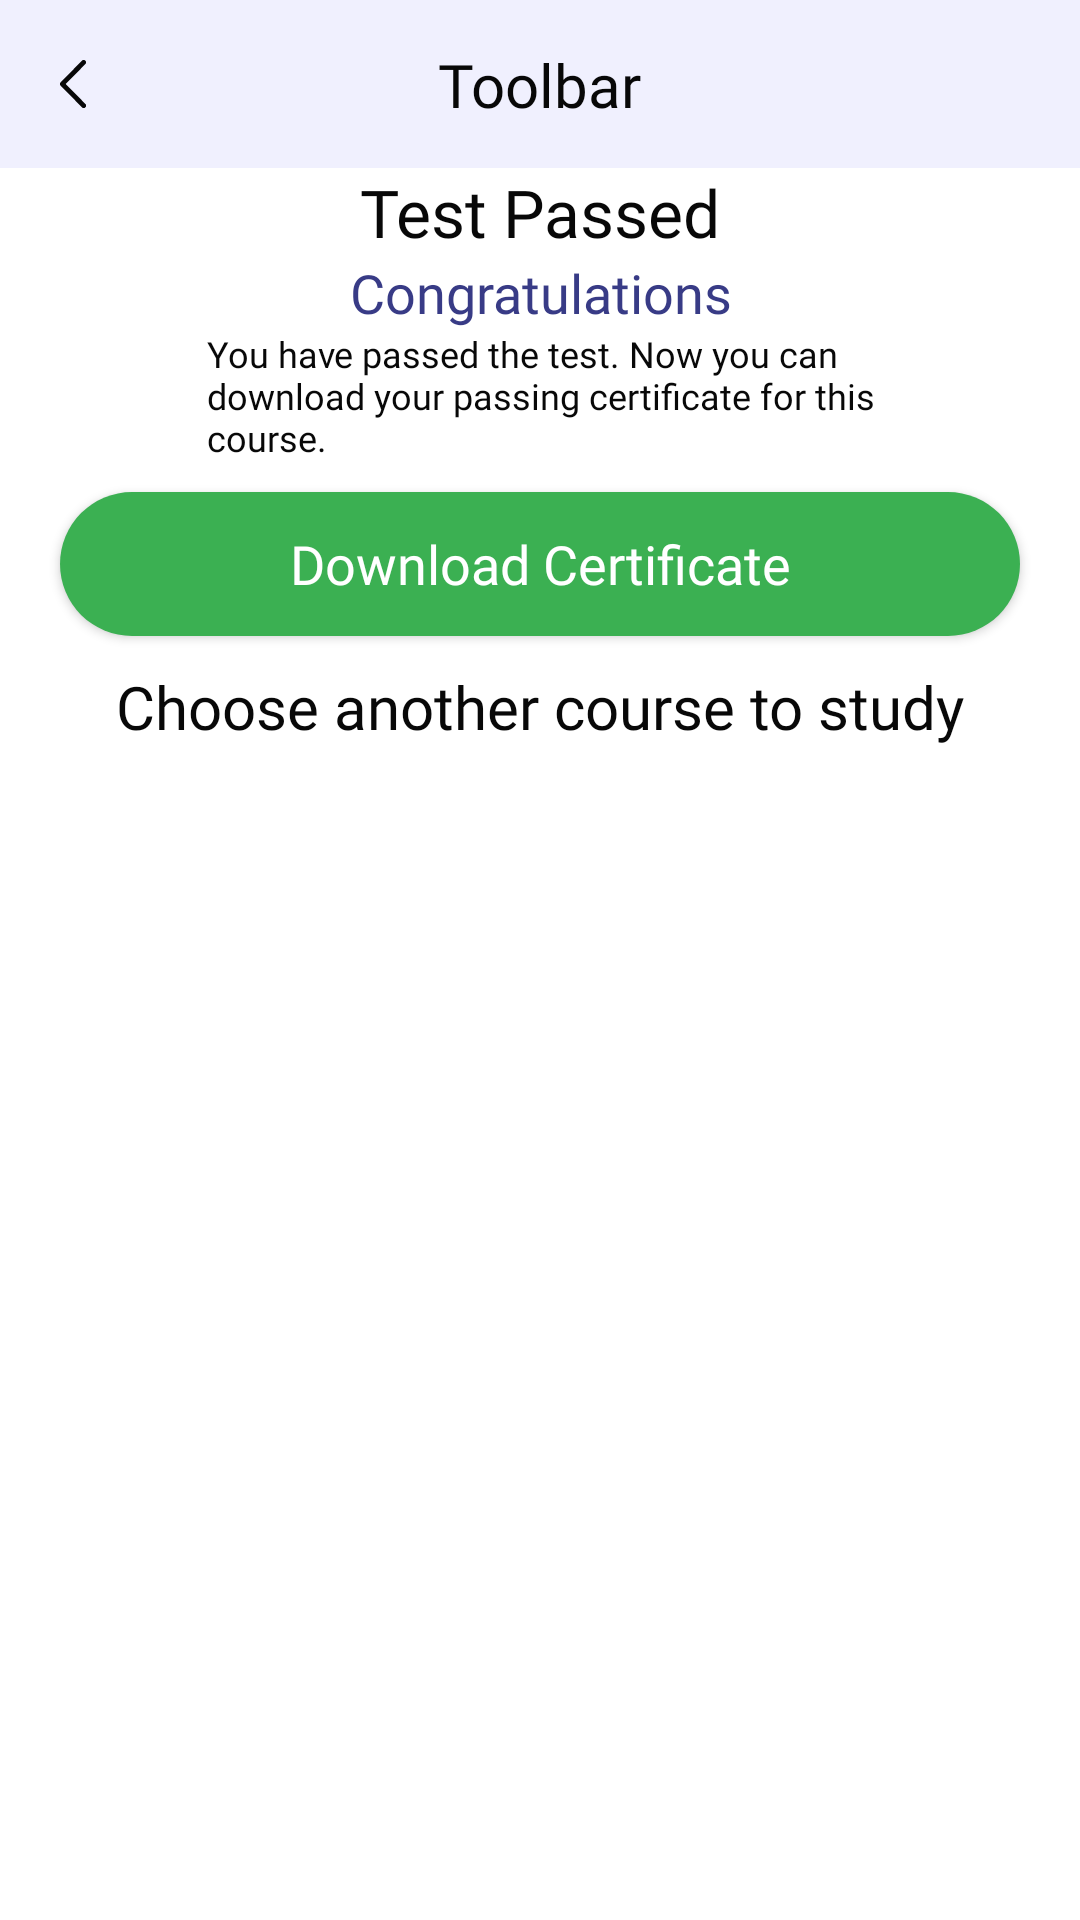

Where icons sit on this 1080px x 1920px app screen, as bbox=(x1, y1, x2, y2):
back: bbox=(60, 60, 86, 108)
